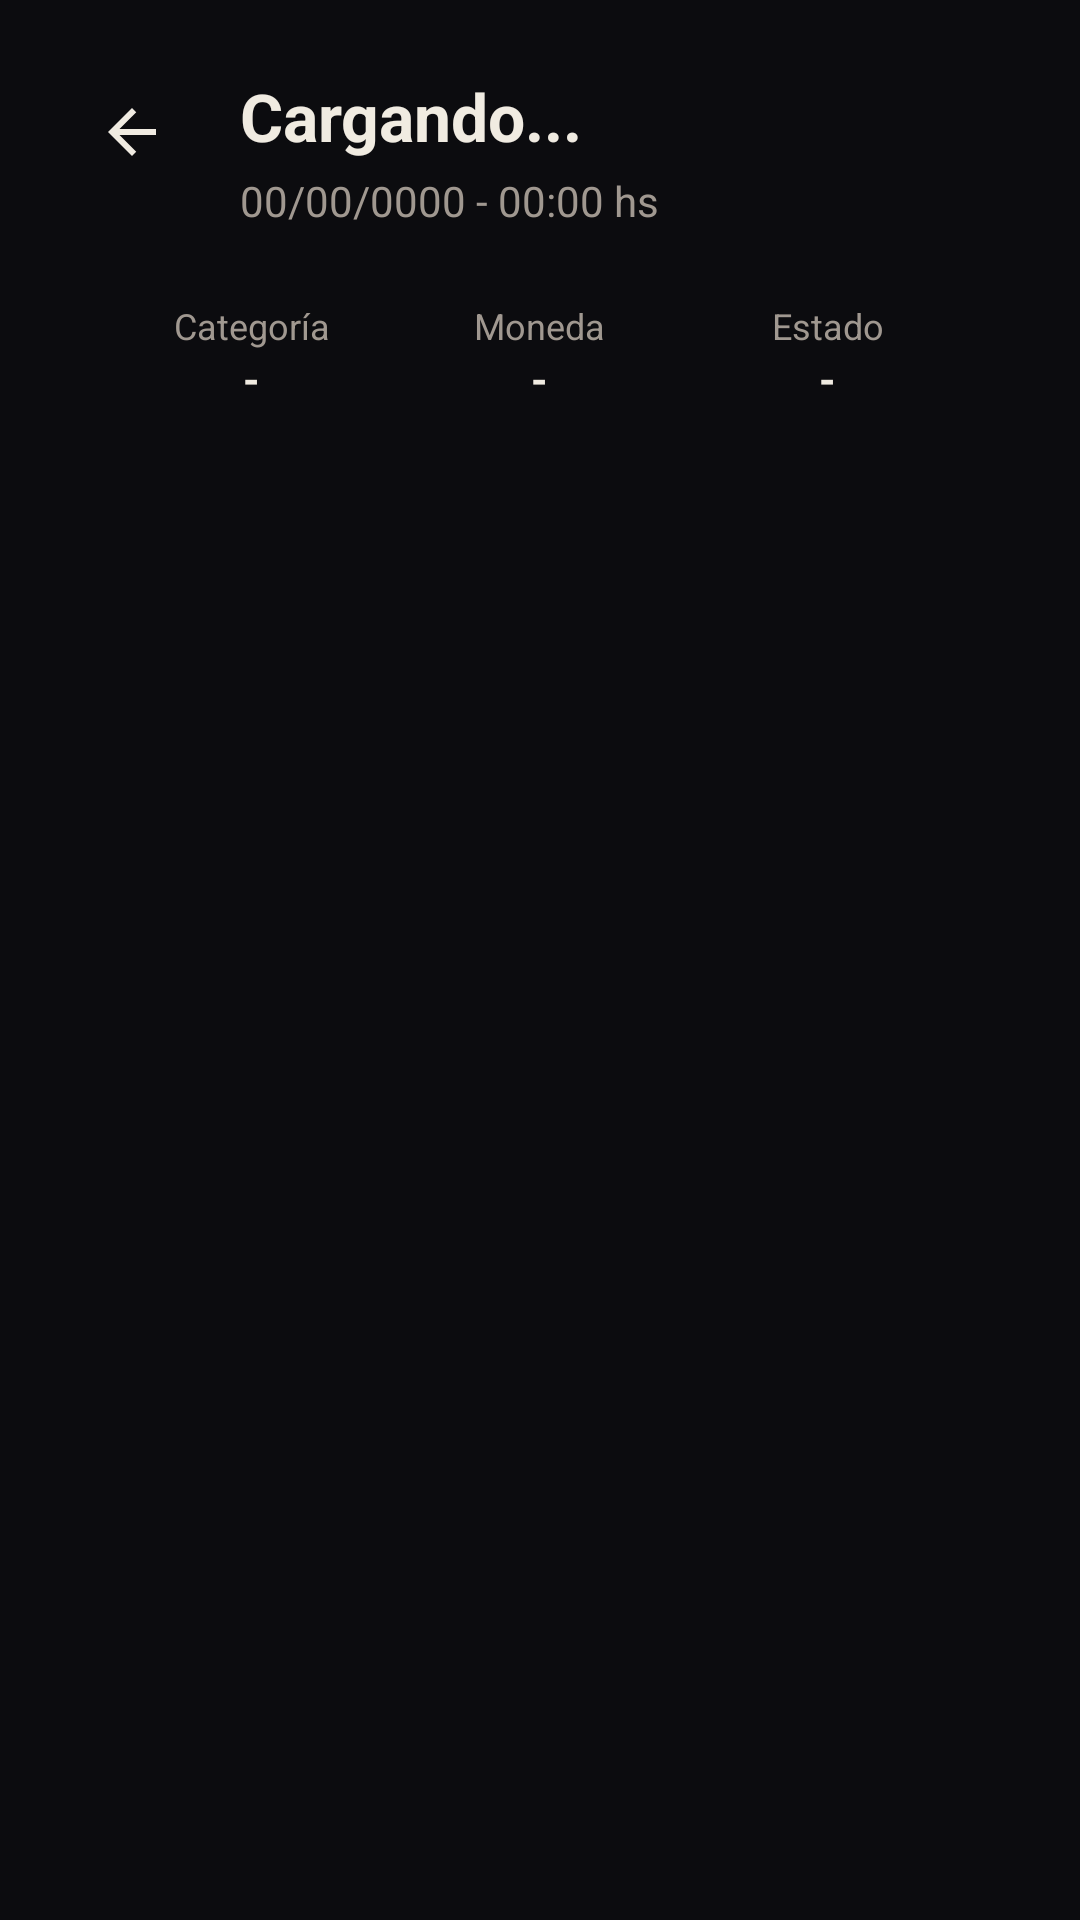

Icons on this 1080px×1920px Android screen, each with its box as (x1, y1, x2, y2):
arrow back: (108, 108, 156, 156)
